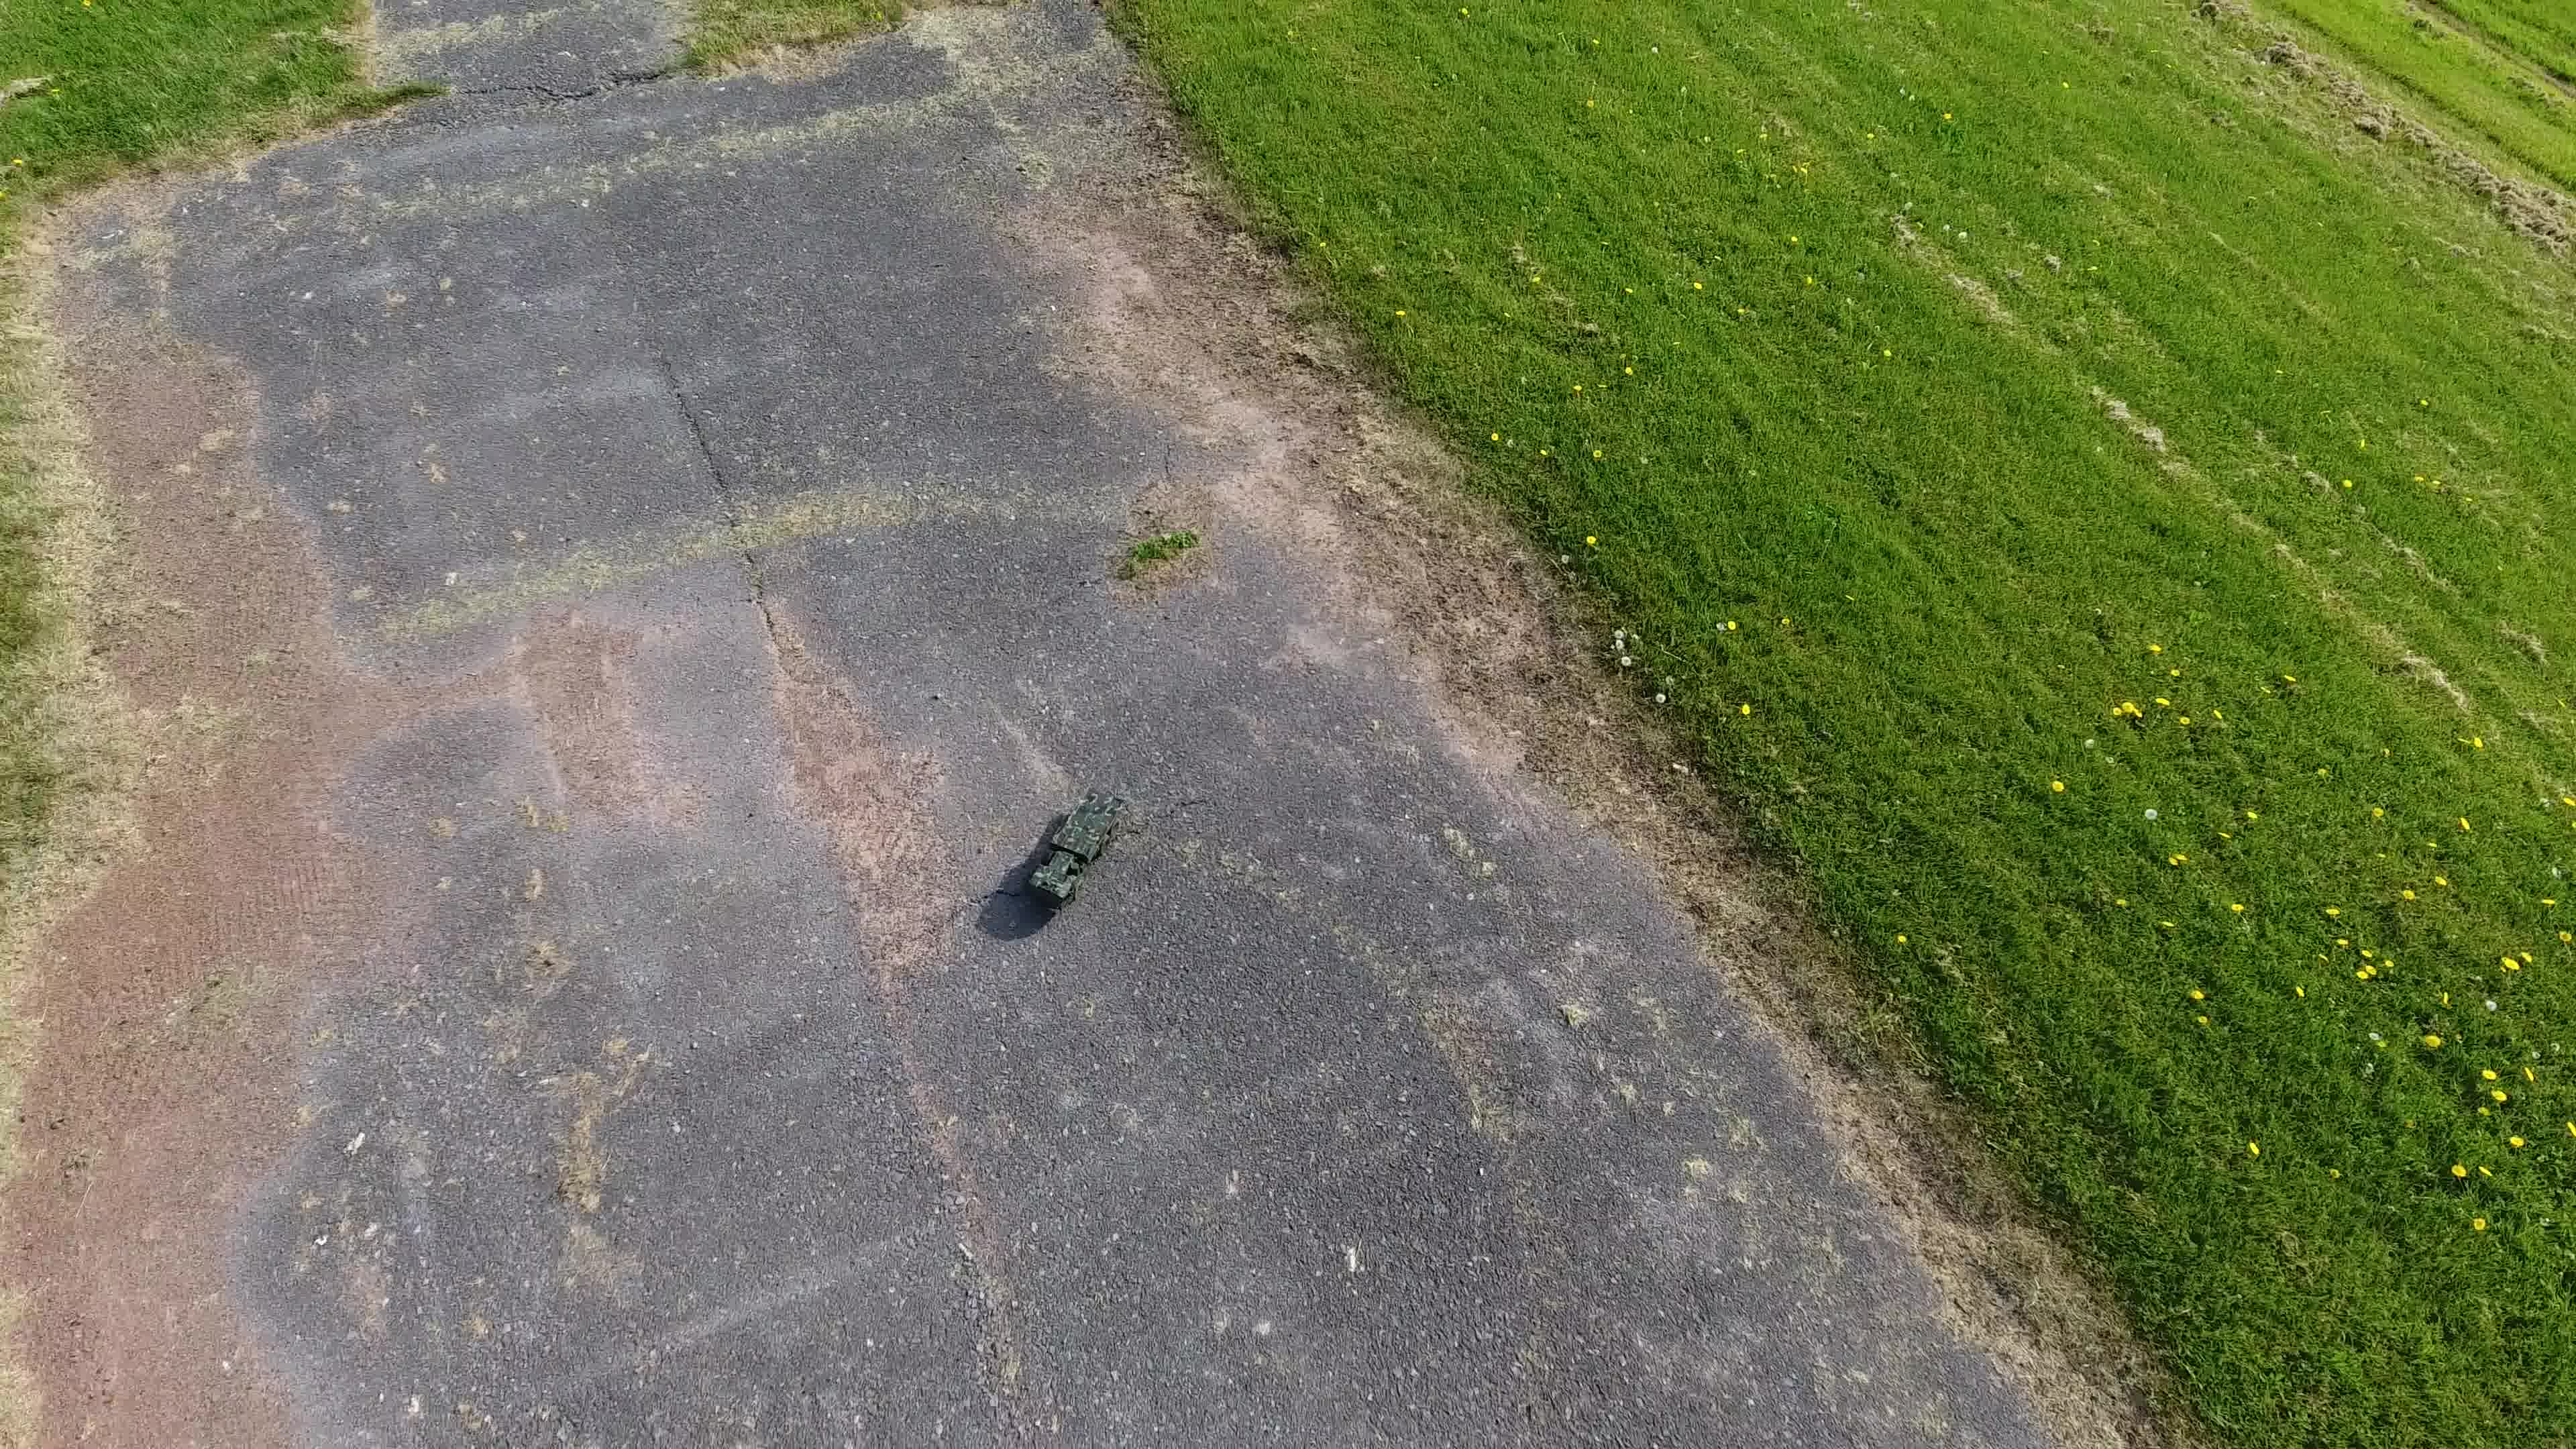transporter9_camo: (1021, 787, 1129, 913)
